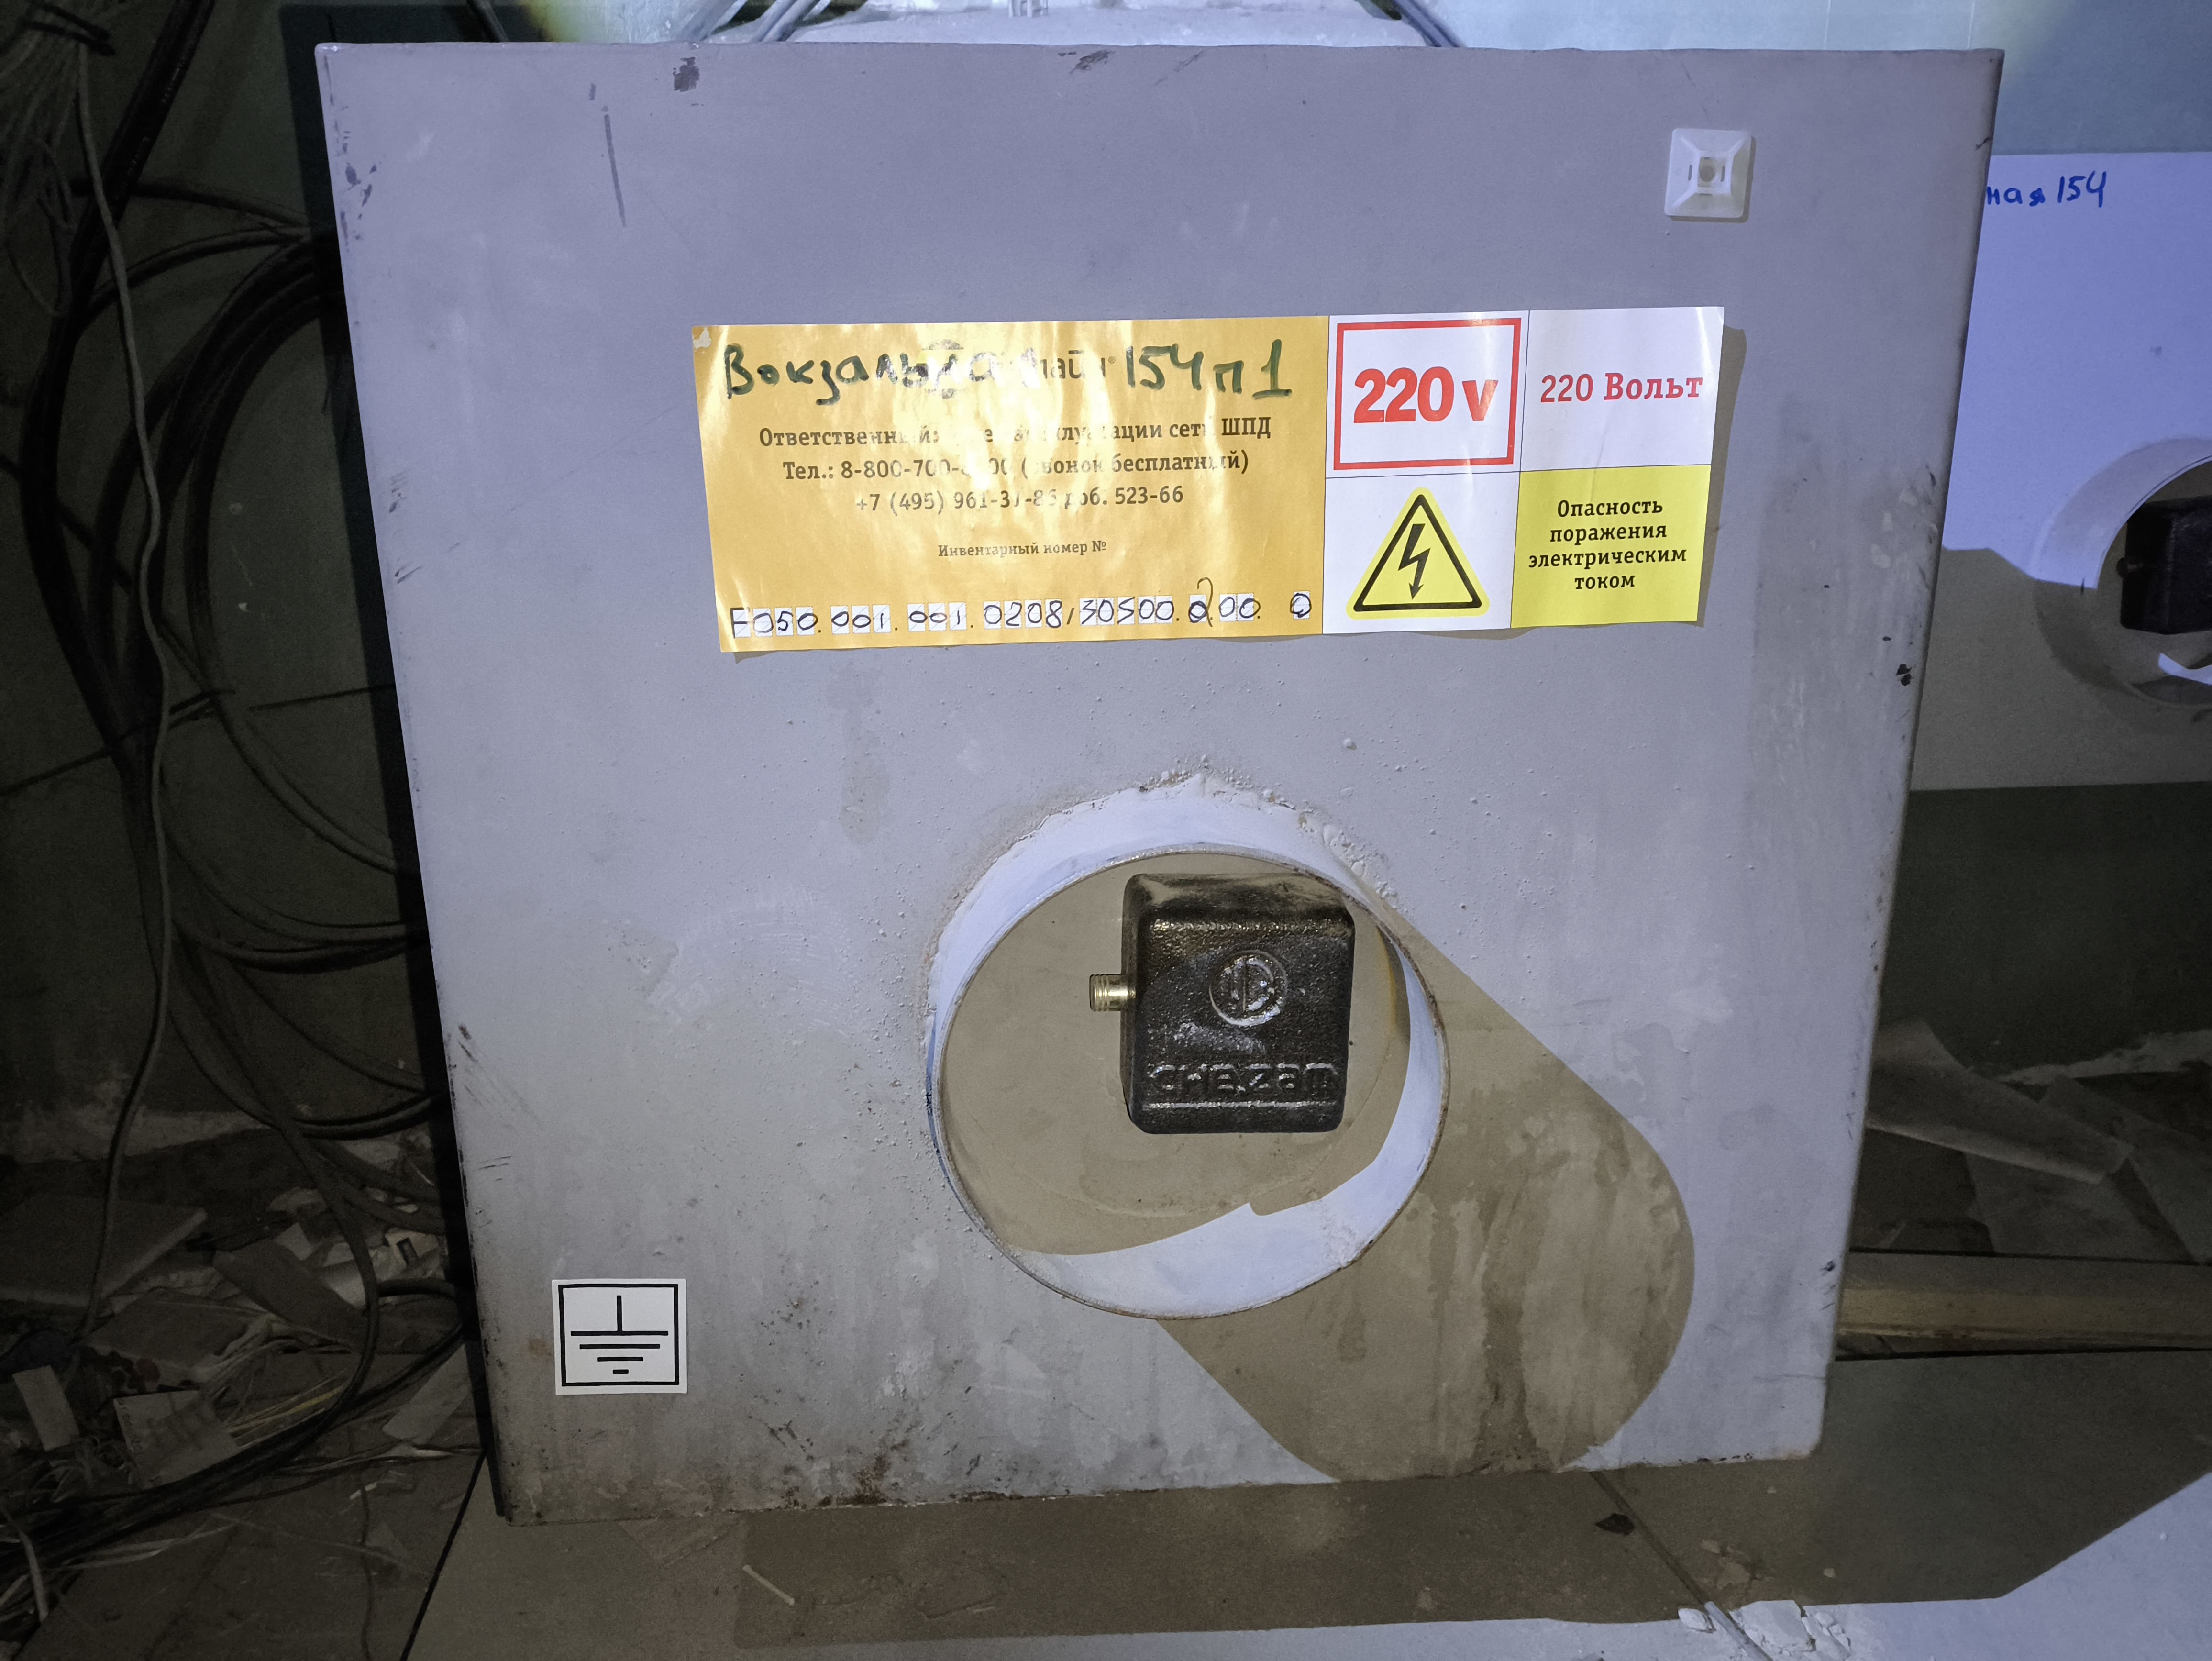shta-9: (300, 35, 2006, 1530)
